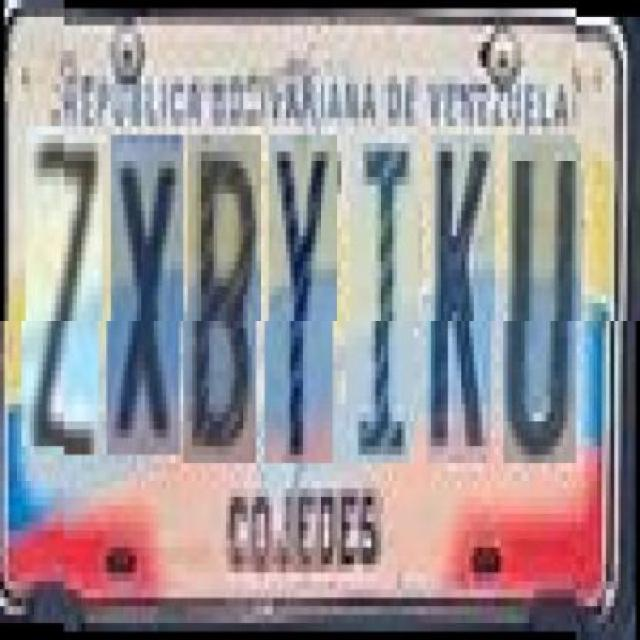b: (187, 134, 261, 463)
i: (350, 134, 418, 463)
k: (431, 134, 495, 463)
u: (507, 134, 581, 463)
x: (110, 134, 184, 454)
y: (268, 134, 338, 463)
z: (26, 134, 102, 454)
